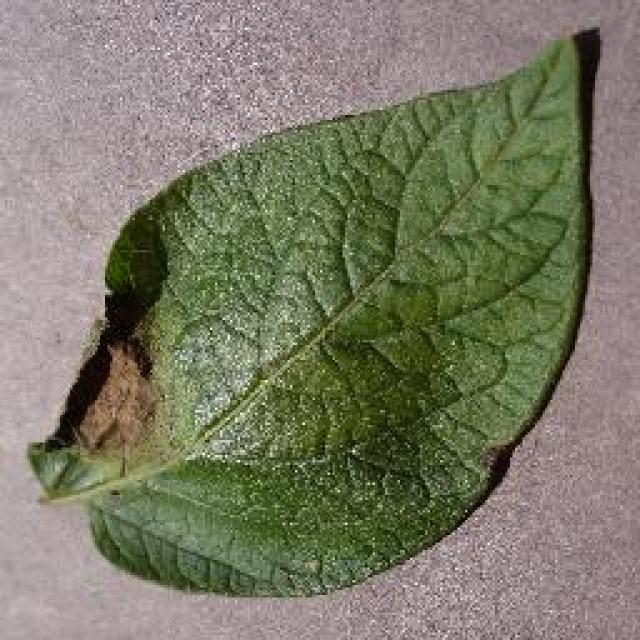Potato___Late_blight: (10, 10, 610, 628)
